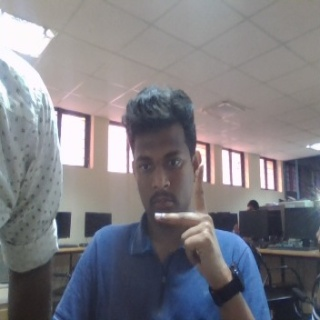Okay: (150, 162, 229, 281)
